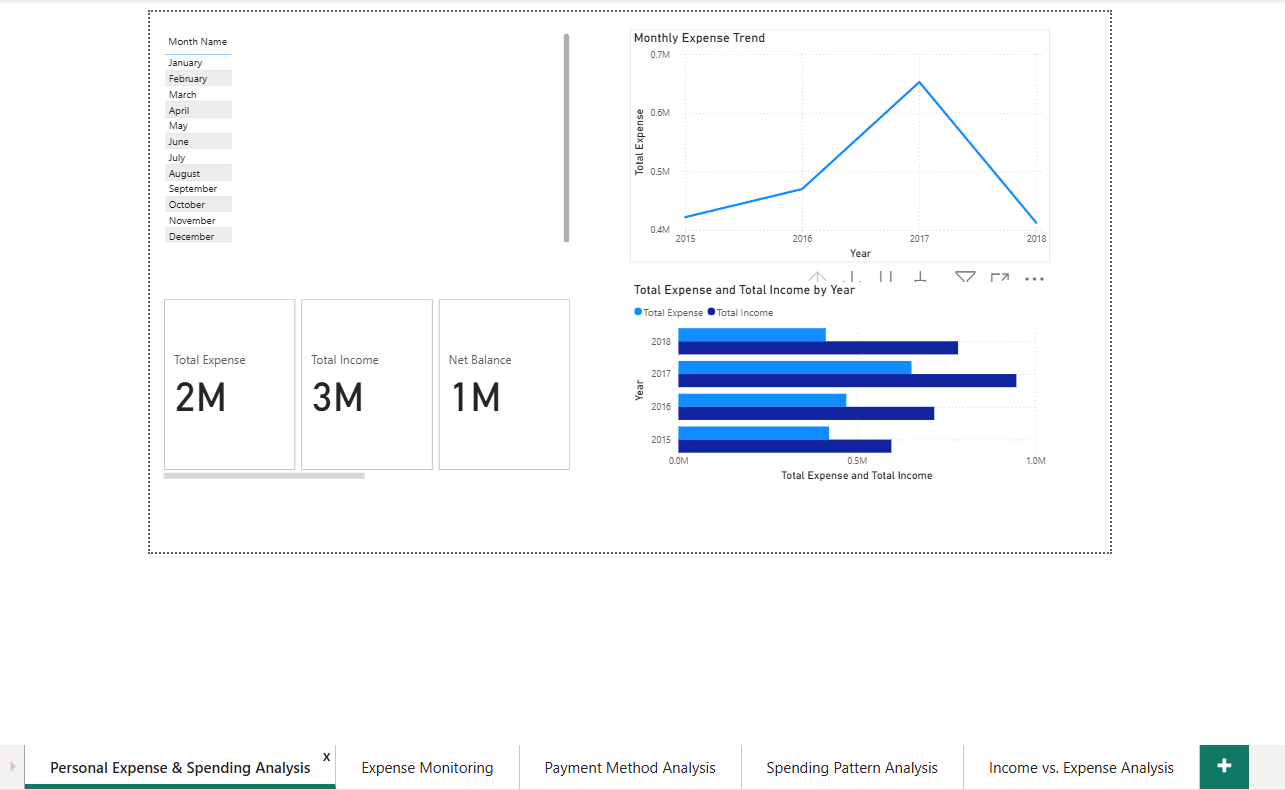

This screenshot's page, from the dashboard's own definition file:
{"tool":"powerbi","page":{"name":"Personal Expense & Spending Analysis","canvas":[1280,720],"ordinal":0},"visuals":[{"type":"tableEx","fields":{"Values":["Daily Household Transactions.Month Name"]},"box":[13.7,23.3,551.6,289.5],"z":0},{"type":"cardVisual","fields":{"Data":["Daily Household Transactions.Total Expense","Daily Household Transactions.Total Income","Daily Household Transactions.Net Balance","Daily Household Transactions.Savings Rate","Daily Household Transactions.Expense % of Income","Daily Household Transactions.Expense Transaction Count"]},"box":[13.7,378.7,551.6,251.1],"z":1},{"type":"lineChart","title":"Monthly Expense Trend","fields":{"Category":["Daily Household Transactions.Month-Year.Variation.Date Hierarchy.Year","Daily Household Transactions.Month-Year.Variation.Date Hierarchy.Quarter","Daily Household Transactions.Month-Year.Variation.Date Hierarchy.Month","Daily Household Transactions.Month-Year.Variation.Date Hierarchy.Day"],"Y":["Daily Household Transactions.Total Expense"]},"box":[639.5,23.3,559.9,311.5],"z":2},{"type":"clusteredBarChart","fields":{"Y":["Daily Household Transactions.Total Expense","Daily Household Transactions.Total Income"],"Category":["Daily Household Transactions.Month-Year.Variation.Date Hierarchy.Year","Daily Household Transactions.Month-Year.Variation.Date Hierarchy.Quarter","Daily Household Transactions.Month-Year.Variation.Date Hierarchy.Month","Daily Household Transactions.Month-Year.Variation.Date Hierarchy.Day"]},"box":[639.5,359.5,559.9,270.3],"z":3}]}

Visuals, with their boxes on the page's 1280x720 design canvas (x1, y1, x2, y2). These are canvas units, not pixel positions in the 1285x790 screenshot, which may show the page scaled, cropped or inside an application window:
tableEx - Daily Household Transactions.Month Name: l=14, t=23, r=565, b=313
cardVisual - Daily Household Transactions.Total Expense x Daily Household Transactions.Total Income: l=14, t=379, r=565, b=630
"Monthly Expense Trend" lineChart: l=640, t=23, r=1199, b=335
clusteredBarChart - Daily Household Transactions.Total Expense x Daily Household Transactions.Total Income: l=640, t=360, r=1199, b=630
